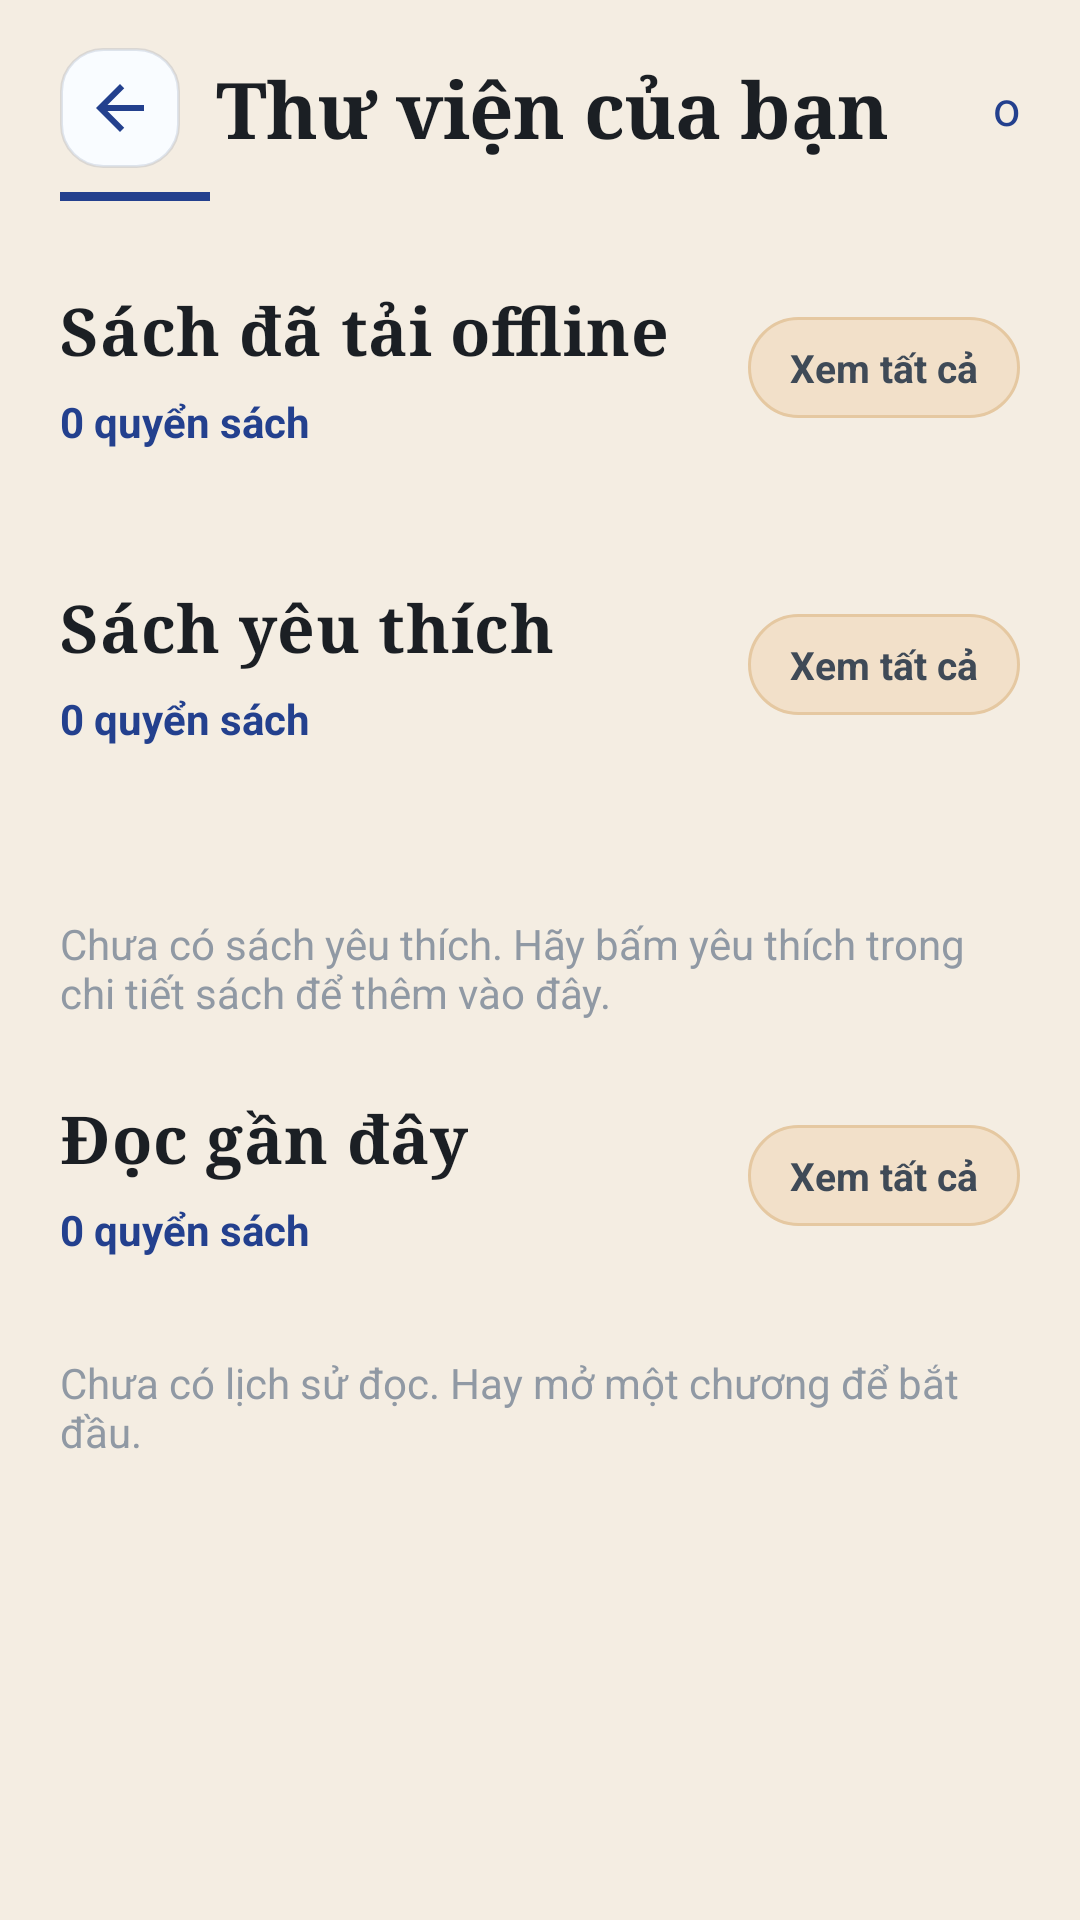

Where to tap for icons on this 1080w x 1920h app screen, as point (x, y):
Quay lại: point (120, 108)
